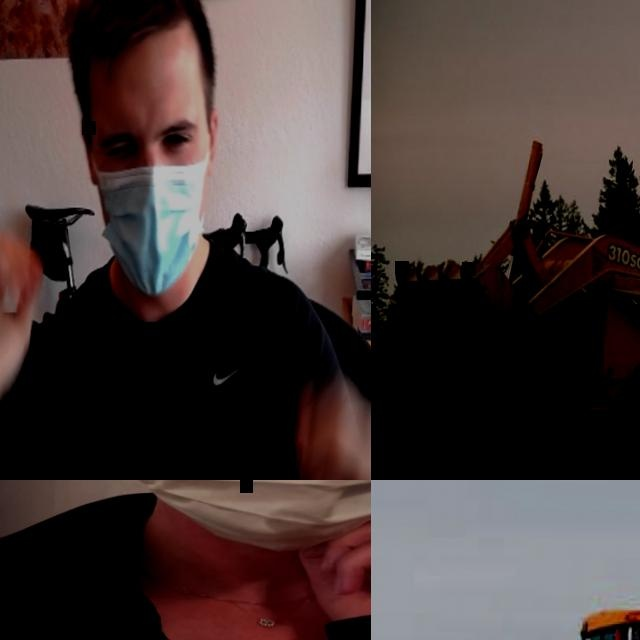Mask: (83, 143, 213, 299), (98, 480, 371, 546)
NO-Hardhat: (63, 0, 200, 55)
NO-Safety Vest: (37, 243, 304, 480), (0, 537, 371, 640)
Person: (0, 0, 371, 480), (0, 480, 371, 640)
machinery: (387, 68, 640, 480)
